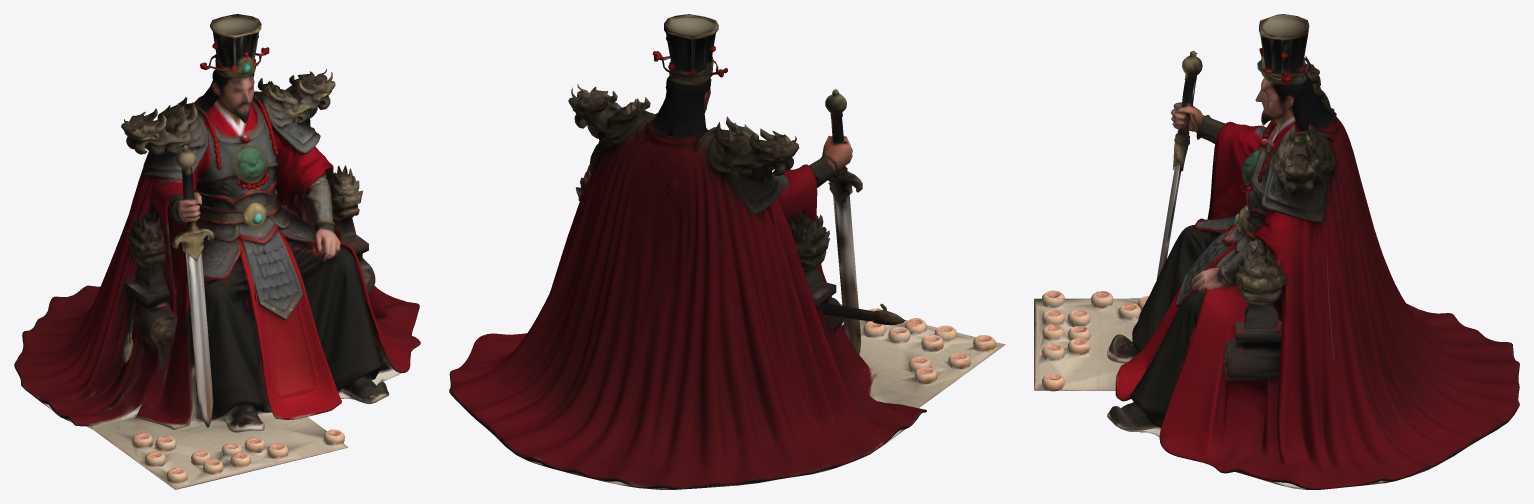
Rendered from general-red-hy3-v2.glb.
3 views of the same model, side by side, from view 1: azimuth 30°, elevation 25°; view 2: azimuth 150°, elevation 25°; view 3: azimuth 270°, elevation 25° (orthographic). The views are drawn at different scales.
Visible parts, largest first — view 1: node_0; view 2: node_0; view 3: node_0.
Part boxes in pixels (x1,y1,x2,y2): node_0: (14,14,420,489); node_0: (449,14,1005,489); node_0: (1034,14,1519,489).
Bounding box in the file's own units: 2.24 × 1.9 × 2.28.
Materials: 1 (1 with a texture image).
